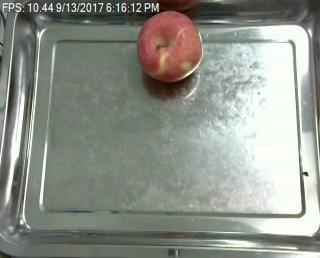apple: (138, 11, 203, 82)
